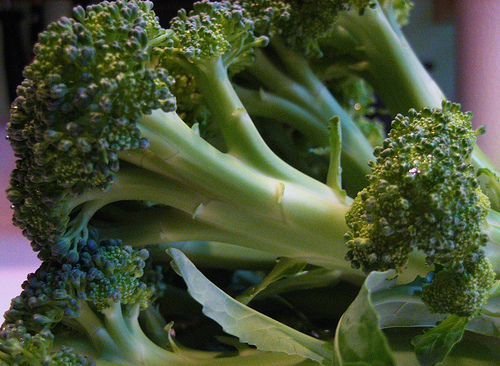broccoli: (1, 0, 343, 274), (2, 245, 336, 365), (343, 101, 499, 317), (287, 1, 460, 113)
